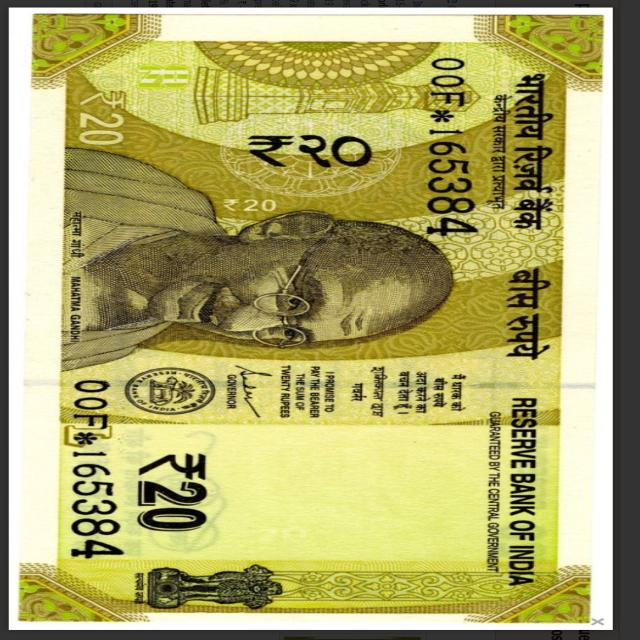20IndianRupees: (35, 21, 601, 622)
